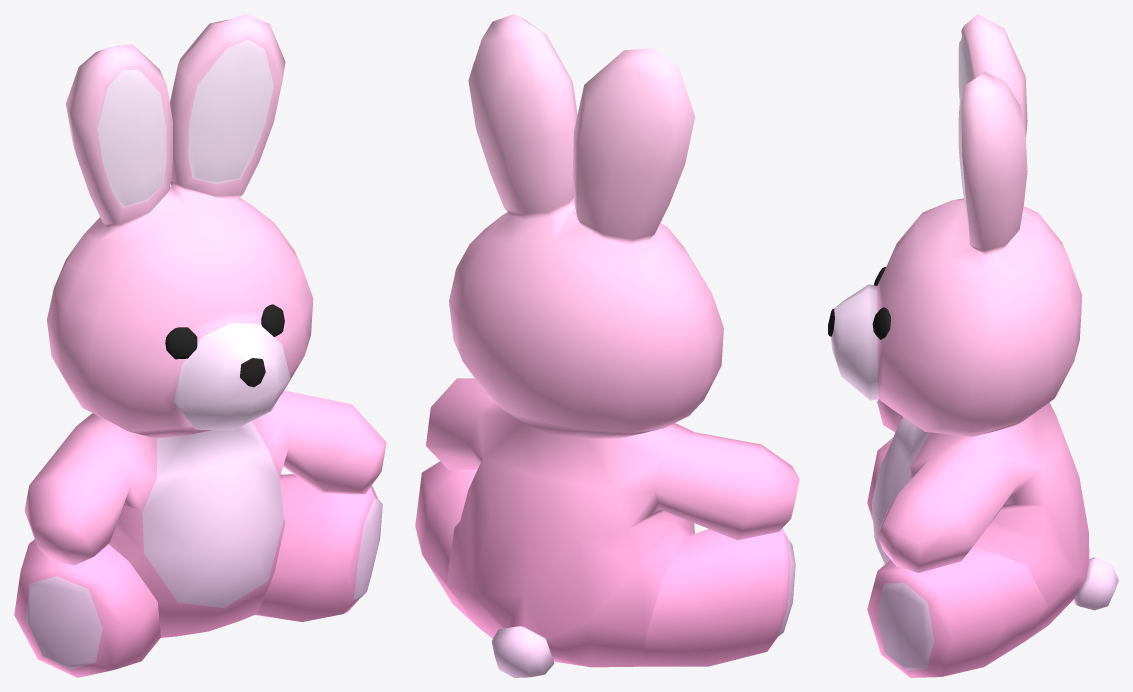
Rendered from Rabbit_01.glb.
The picture shows the model from 3 angles, left to right: view 1: azimuth 30°, elevation 25°; view 2: azimuth 150°, elevation 25°; view 3: azimuth 270°, elevation 25°; orthographic projection. The views are drawn at different scales.
Parts seen in each view (by area): view 1: Rabbit_01; view 2: Rabbit_01; view 3: Rabbit_01.
Part boxes in pixels (<box>): Rabbit_01: <box>14,14,386,677</box>; Rabbit_01: <box>415,14,799,677</box>; Rabbit_01: <box>828,14,1118,677</box>.
Bounding box in the file's own units: 0.3099 × 0.5016 × 0.229.
2 materials, 2 textured.
